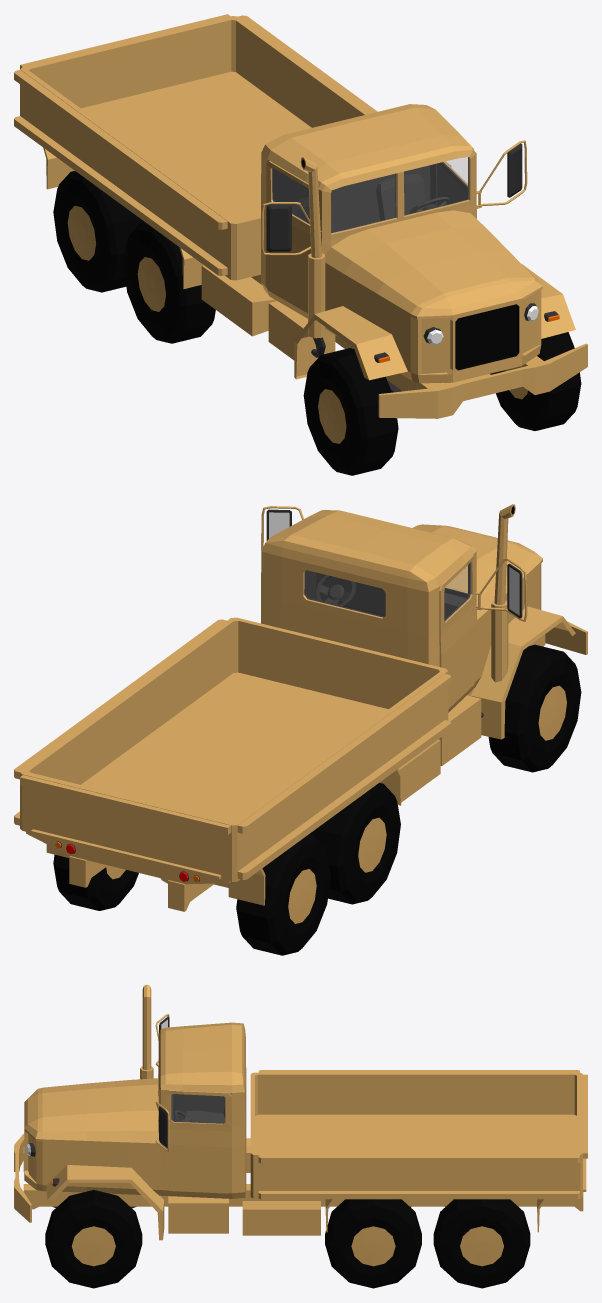
3 renders of one model, top to bottom at view 1: azimuth 30°, elevation 25°; view 2: azimuth 150°, elevation 25°; view 3: azimuth 270°, elevation 25°, orthographic. The views are drawn at different scales.
Parts seen in each view (by area): view 1: Plane.016, Plane.019, Cylinder.017, Cylinder.016, Cylinder.015, Plane.018, Plane.021, Plane.022, Cylinder.014, Cylinder.020, Plane.023; view 2: Plane.016, Plane.019, Cylinder.017, Cylinder.016, Cylinder.015, Plane.022, Plane.021, Cylinder.019, Plane.018, Cylinder.020; view 3: Plane.016, Cylinder.014, Cylinder.019, Cylinder.018, Plane.023, Plane.019, Cylinder.020, Plane.022, Plane.021.
Part boxes in pixels (x1,y1,x2,y2): Plane.016: [14, 15, 587, 418]; Plane.019: [20, 14, 230, 108]; Cylinder.017: [303, 348, 398, 475]; Cylinder.016: [53, 171, 144, 292]; Cylinder.015: [123, 222, 215, 343]; Plane.018: [331, 157, 468, 232]; Plane.021: [274, 157, 468, 233]; Plane.022: [265, 161, 311, 313]; Cylinder.014: [496, 332, 581, 430]; Cylinder.020: [300, 157, 325, 357]; Plane.023: [436, 147, 474, 205]; Plane.016: [14, 506, 587, 911]; Plane.019: [20, 774, 231, 879]; Cylinder.017: [488, 644, 581, 772]; Cylinder.016: [236, 834, 330, 955]; Cylinder.015: [310, 782, 400, 904]; Plane.022: [439, 555, 476, 708]; Plane.021: [304, 564, 468, 619]; Cylinder.019: [53, 855, 138, 910]; Plane.018: [305, 566, 467, 616]; Cylinder.020: [481, 504, 515, 717]; Plane.016: [14, 1014, 583, 1240]; Cylinder.014: [45, 1190, 142, 1288]; Cylinder.019: [433, 1199, 530, 1288]; Cylinder.018: [325, 1199, 421, 1288]; Plane.023: [165, 1090, 231, 1193]; Plane.019: [577, 1074, 587, 1191]; Cylinder.020: [140, 984, 153, 1079]; Plane.022: [175, 1094, 225, 1121]; Plane.021: [171, 1094, 225, 1122].
Bounding box in the file's own units: 293 × 305 × 707.
